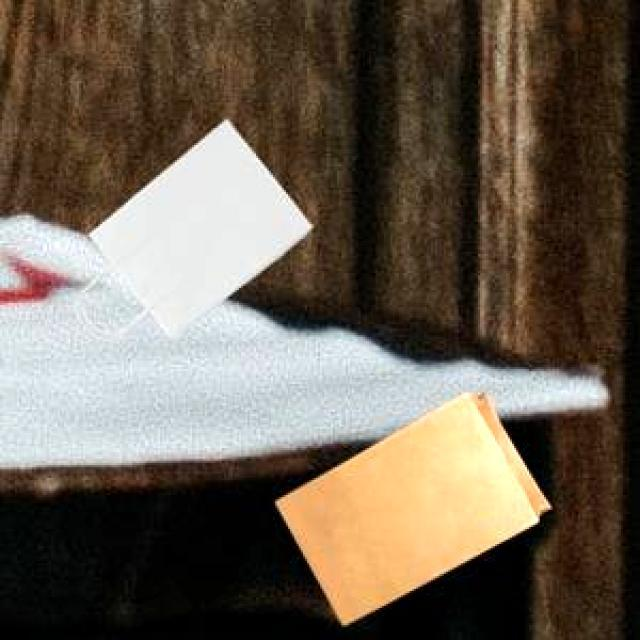Paper_Bag: (272, 389, 547, 622), (86, 116, 308, 334)
